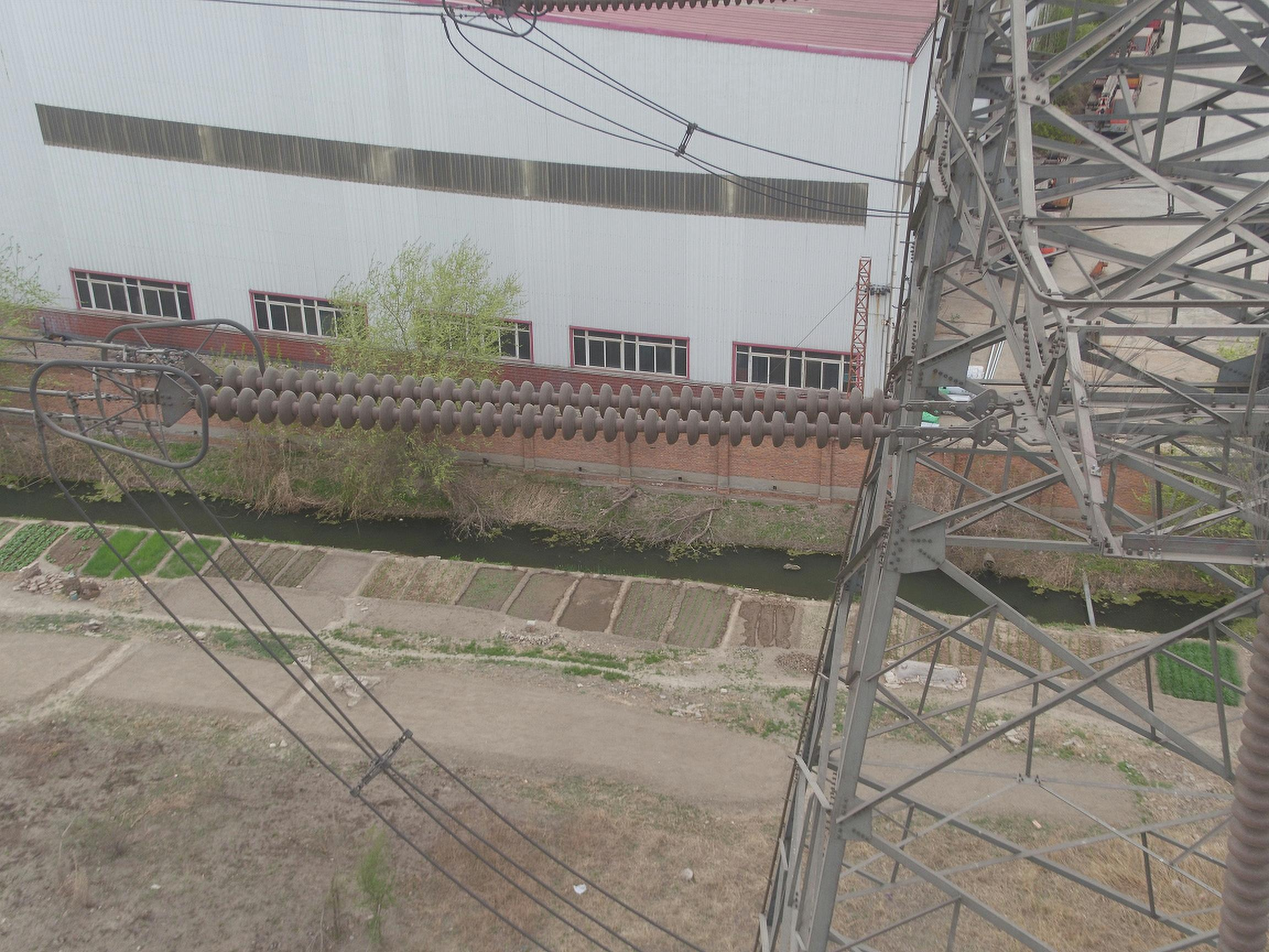insulator: (192, 361, 888, 454), (1210, 575, 1269, 952)
